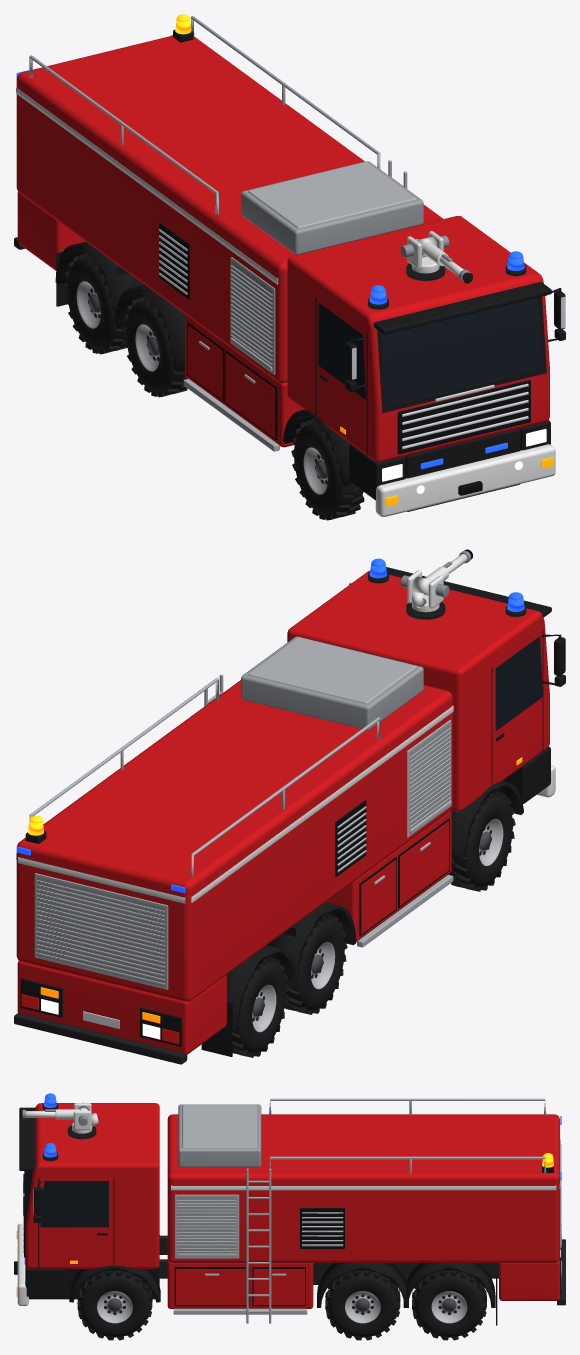
The model's file is fire_truck.glb.
3 renders of one model, top to bottom at view 1: azimuth 30°, elevation 25°; view 2: azimuth 150°, elevation 25°; view 3: azimuth 270°, elevation 25°, orthographic. The views are drawn at different scales.
Visible parts, largest first — view 1: body, wheel_front_right, wheel_middle_right, wheel_rear_right, mirrors, monitor, monitor_barrel; view 2: body, wheel_front_right, wheel_middle_right, wheel_rear_right, monitor, monitor_barrel, mirrors; view 3: body, wheel_front_left, wheel_middle_left, wheel_rear_left, monitor, monitor_barrel, mirrors.
Part boxes in pixels (x1=…): body: x1=14, y1=16, x2=555, y2=516; wheel_front_right: x1=291, y1=419, x2=364, y2=520; wheel_middle_right: x1=123, y1=296, x2=187, y2=397; wheel_rear_right: x1=64, y1=253, x2=126, y2=354; mirrors: x1=345, y1=288, x2=565, y2=391; monitor: x1=400, y1=231, x2=449, y2=273; monitor_barrel: x1=417, y1=236, x2=472, y2=283; body: x1=14, y1=567, x2=555, y2=1064; wheel_front_right: x1=448, y1=791, x2=515, y2=891; wheel_middle_right: x1=284, y1=914, x2=347, y2=1014; wheel_rear_right: x1=232, y1=957, x2=288, y2=1057; monitor: x1=400, y1=570, x2=449, y2=612; monitor_barrel: x1=412, y1=549, x2=472, y2=595; mirrors: x1=349, y1=583, x2=565, y2=686; body: x1=14, y1=1098, x2=565, y2=1325; wheel_front_left: x1=77, y1=1270, x2=152, y2=1340; wheel_middle_left: x1=325, y1=1270, x2=400, y2=1340; wheel_rear_left: x1=412, y1=1270, x2=486, y2=1340; monitor: x1=72, y1=1102, x2=98, y2=1133; monitor_barrel: x1=19, y1=1106, x2=88, y2=1119; mirrors: x1=33, y1=1181, x2=43, y2=1222.
Size of the model in its own units: 3.08 by 3.74 by 9.24.
